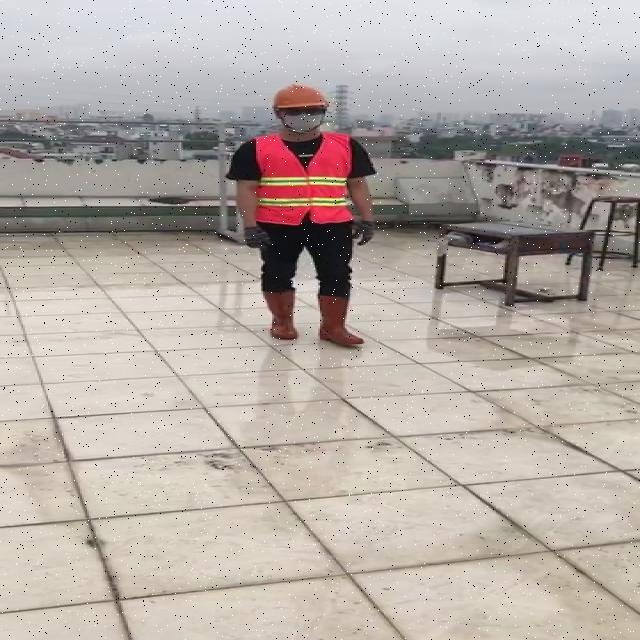Hard_hat: (265, 82, 332, 118)
Vest: (251, 130, 354, 227)
